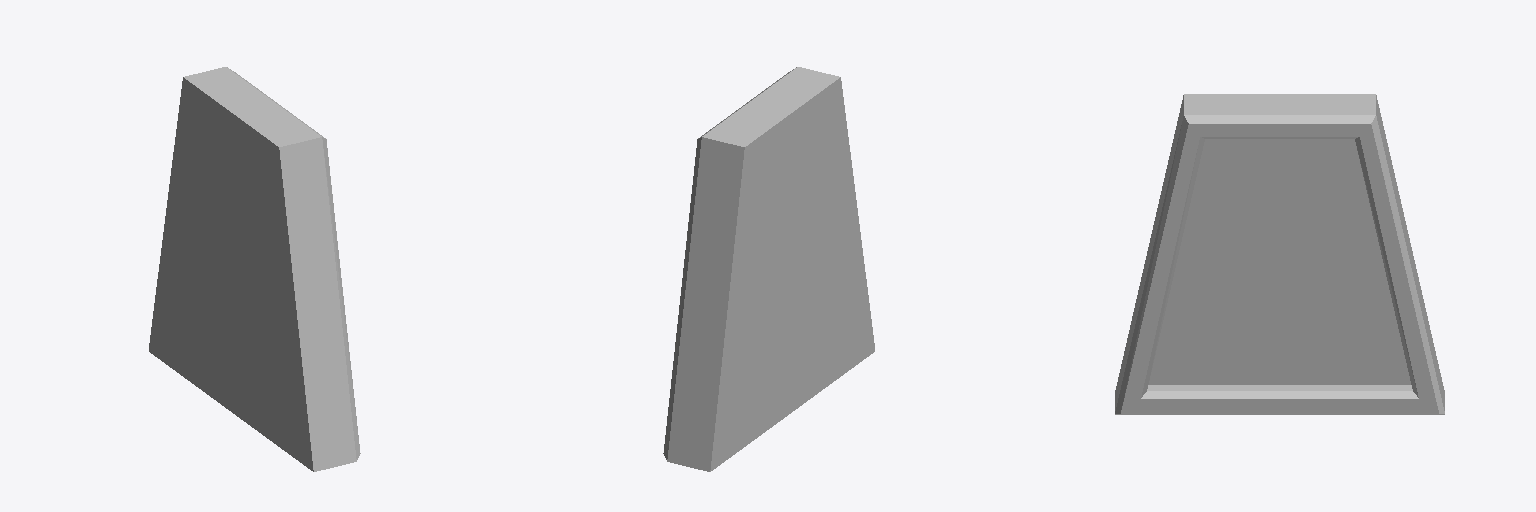
The model's file is walllight.obj.
3 views of the same model, side by side, from view 1: azimuth 30°, elevation 25°; view 2: azimuth 150°, elevation 25°; view 3: azimuth 270°, elevation 25° (orthographic).
Visible parts, largest first — view 1: Cube1; view 2: Cube1; view 3: Cube1.
Boxes of the visible parts, x1,y1,x2,y2 form: Cube1: [149, 67, 360, 471]; Cube1: [663, 67, 874, 471]; Cube1: [1115, 94, 1444, 414].
Size of the model in its own units: 0.348 by 2 by 2.